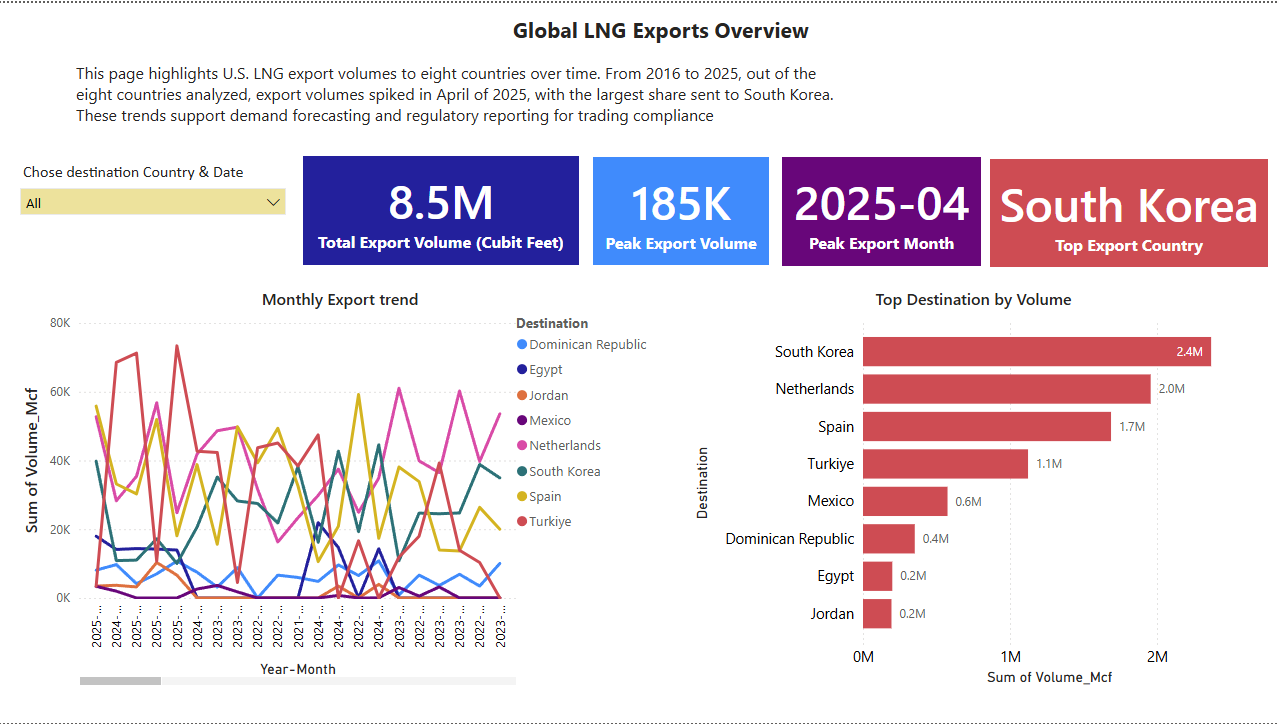

Layout of this report page (visuals, bound fields, positions):
{"tool":"powerbi","page":{"name":"Page 1: Global LNG  Exports Overview","canvas":[1280,720],"ordinal":0},"visuals":[{"type":"textbox","box":[493.4,7.2,339.4,46.6],"z":0},{"type":"textbox","box":[73.4,53.7,769.3,79.7],"z":1000},{"type":"card","fields":{"Values":["Export_By_Country.Total_Export_Volume"]},"box":[305,153,276,109],"z":2000},{"type":"card","fields":{"Values":["Export_By_Country.Top_Export_Country"]},"box":[992,156,278,108],"z":3000},{"type":"card","fields":{"Values":["Export_By_Country.Peak_Export_Volume"]},"box":[595,154,176,108],"z":4000},{"type":"card","fields":{"Values":["Export_By_Country.Peak_Export_Month"]},"box":[784,154,199,109],"z":5000},{"type":"lineChart","title":"Monthly Export trend","fields":{"Category":["Export_By_Country.MontHYear"],"Y":["Sum(Export_By_Country.Volume_Mcf)"],"Series":["Export_By_Country.Destination"]},"box":[21.5,284.8,641.2,402.1],"z":6000},{"type":"clusteredBarChart","title":"Top Destination by Volume","fields":{"Category":["Export_By_Country.Destination"],"Y":["Sum(Export_By_Country.Volume_Mcf)"]},"box":[691.3,284.8,568.7,402.1],"z":7000},{"type":"slicer","fields":{"Values":["Export_By_Country.Destination","Export_By_Country.Date"]},"box":[12,154,286,110],"z":8000}]}

Visuals, with their boxes in screenshot pixels (x1, y1, x2, y2), scaled from the page's 1280x720 canvas onto the 1278x724 screenshot:
textbox: Rect(493, 7, 831, 54)
textbox: Rect(73, 54, 841, 134)
card - Export_By_Country.Total_Export_Volume: Rect(305, 154, 580, 263)
card - Export_By_Country.Top_Export_Country: Rect(990, 157, 1268, 265)
card - Export_By_Country.Peak_Export_Volume: Rect(594, 155, 770, 263)
card - Export_By_Country.Peak_Export_Month: Rect(783, 155, 981, 264)
"Monthly Export trend" lineChart: Rect(21, 286, 662, 691)
"Top Destination by Volume" clusteredBarChart: Rect(690, 286, 1258, 691)
slicer - Export_By_Country.Destination x Export_By_Country.Date: Rect(12, 155, 298, 265)
